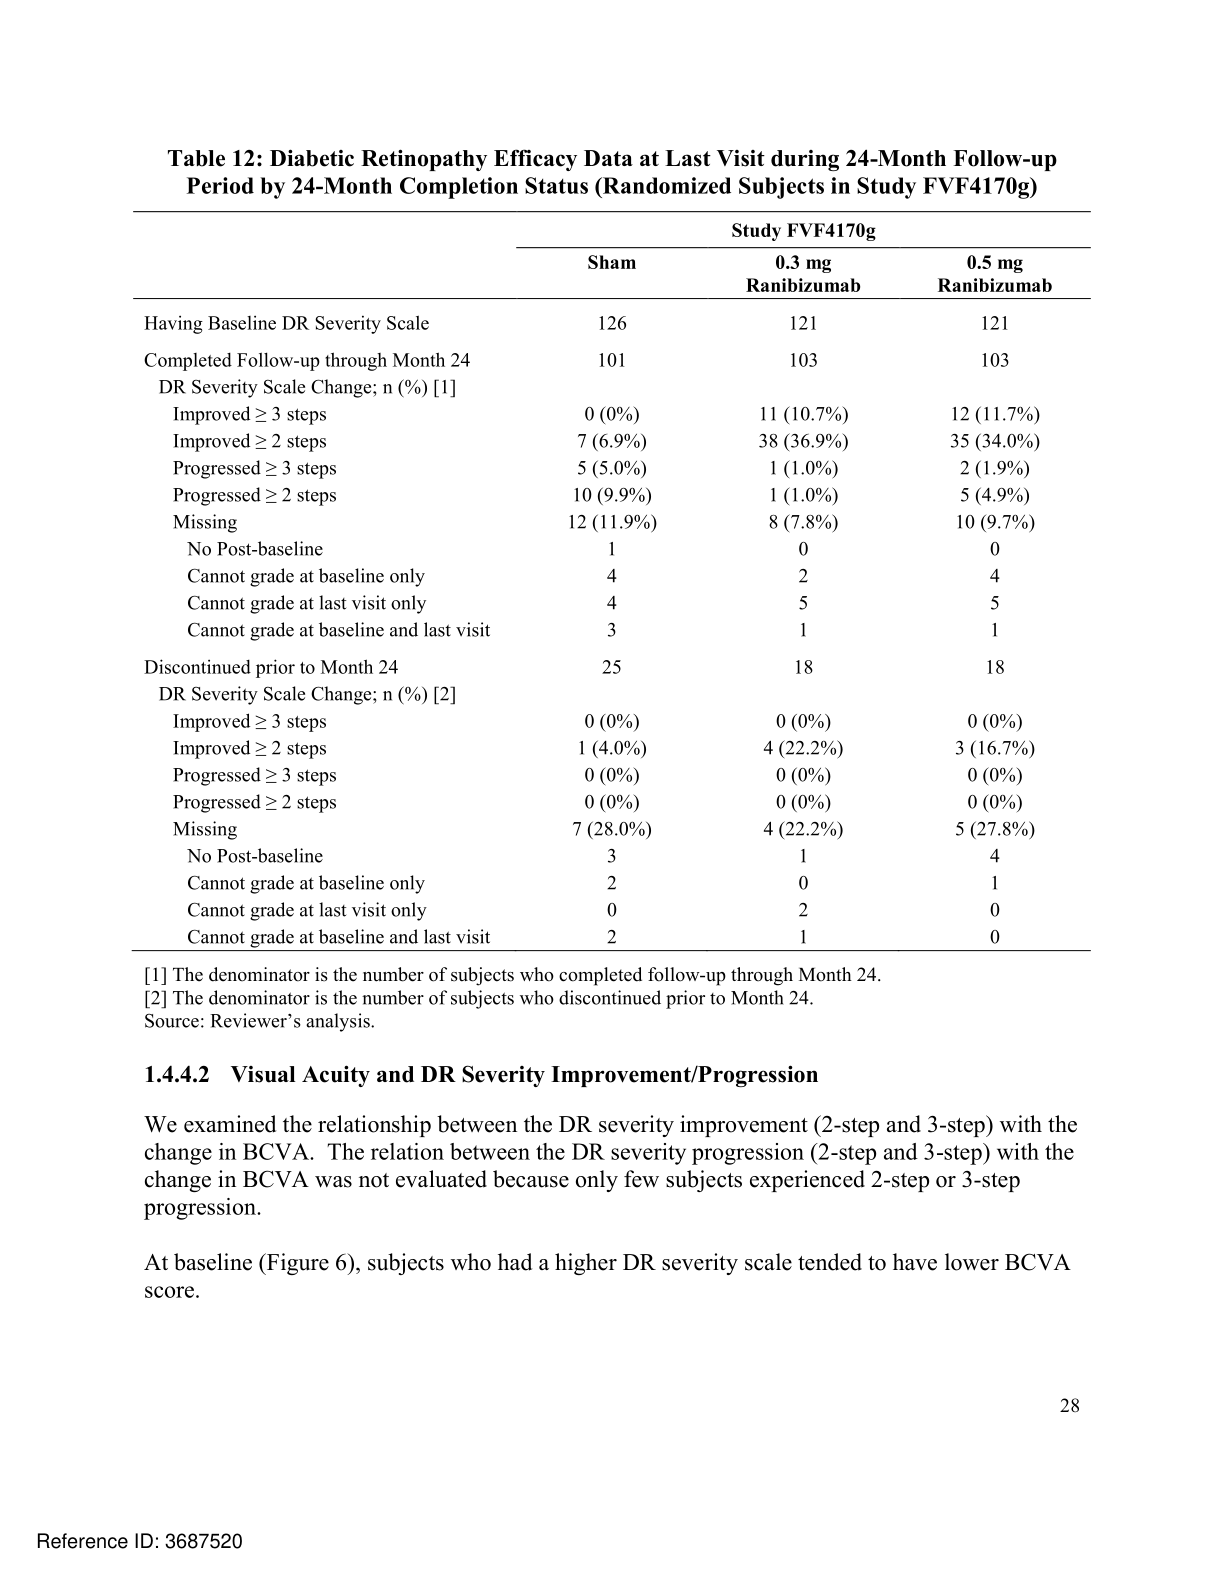partial_lined_merged_cells: (130, 208, 1097, 954)
